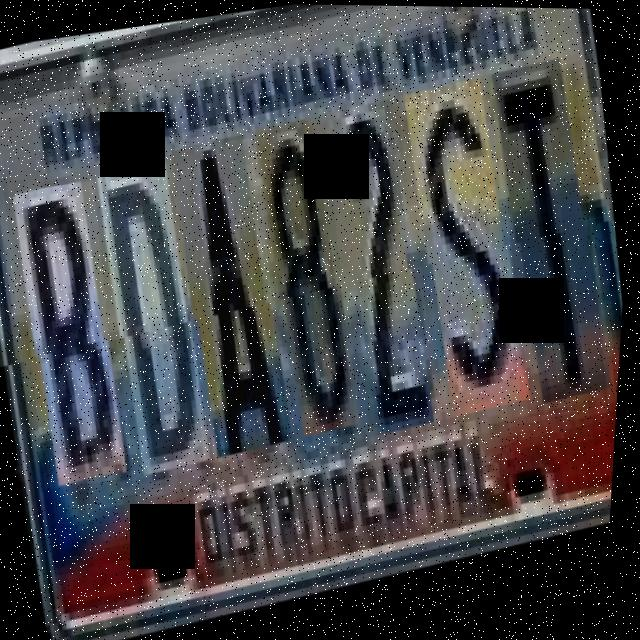2: (317, 104, 452, 444)
8: (245, 121, 377, 445)
A: (161, 136, 309, 464)
B: (4, 180, 143, 492)
D: (87, 161, 230, 481)
S: (393, 82, 548, 428)
T: (480, 64, 629, 416)
